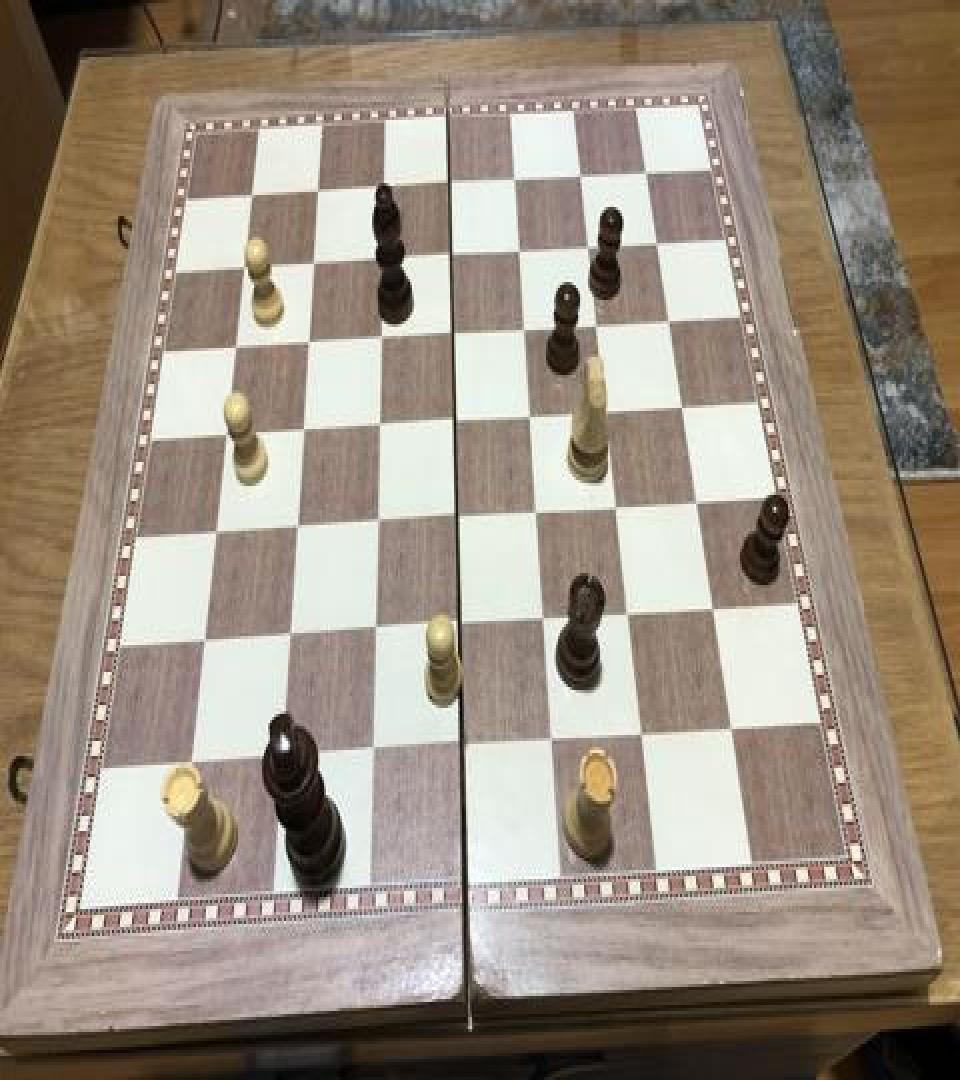xcorner: (446, 610, 470, 647), (361, 616, 385, 653), (717, 712, 741, 749), (628, 718, 652, 755), (269, 742, 293, 779), (178, 748, 202, 785), (631, 160, 655, 196), (566, 164, 590, 200), (501, 168, 525, 204), (436, 171, 460, 207), (370, 176, 394, 212), (304, 178, 328, 214), (238, 183, 262, 219), (642, 231, 666, 267), (574, 234, 598, 270), (506, 238, 530, 274), (437, 243, 461, 279), (369, 246, 393, 282), (300, 250, 324, 286), (231, 255, 255, 291), (654, 308, 678, 344), (583, 312, 607, 348), (511, 316, 535, 352), (439, 321, 463, 357), (367, 326, 391, 362), (295, 330, 319, 366), (222, 333, 246, 369), (667, 393, 691, 429), (592, 398, 616, 434), (517, 402, 541, 438), (441, 406, 465, 442), (289, 417, 313, 453), (213, 422, 237, 458), (682, 488, 706, 524), (603, 494, 627, 530), (523, 498, 547, 534), (443, 502, 467, 538), (363, 508, 387, 544), (283, 513, 307, 549), (203, 519, 227, 555), (698, 594, 722, 630), (614, 600, 638, 636), (530, 604, 554, 640), (276, 621, 300, 657), (191, 627, 215, 663), (538, 724, 562, 760), (449, 730, 473, 766), (359, 736, 383, 772), (365, 413, 389, 448)
